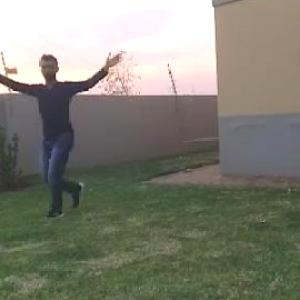takeoff: (1, 48, 129, 221)
